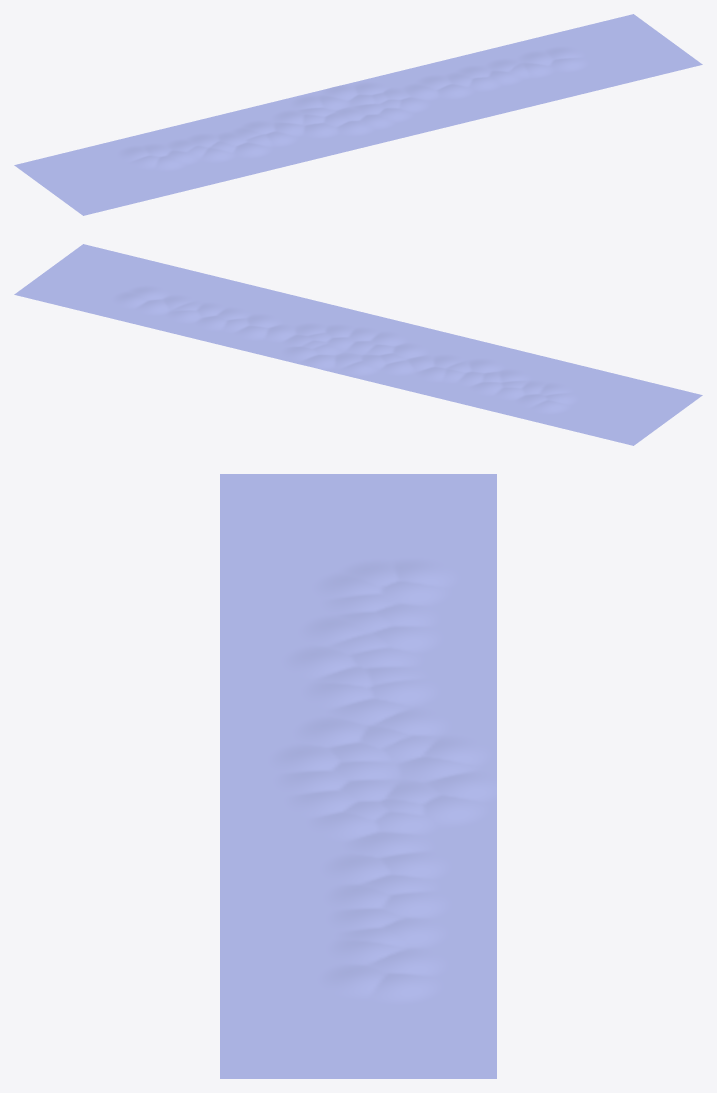
File: Water v1.fbx
The picture shows the model from 3 angles, top to bottom: view 1: azimuth 30°, elevation 25°; view 2: azimuth 150°, elevation 25°; view 3: azimuth 270°, elevation 25°; orthographic projection. The views are drawn at different scales.
Visible parts, largest first — view 1: Water; view 2: Water; view 3: Water.
Boxes of the visible parts, bbox=[...] form: Water: bbox=[14, 14, 702, 215]; Water: bbox=[14, 244, 702, 445]; Water: bbox=[220, 474, 496, 1078].
Size of the model in its own units: 9967 by 16.91 by 1930.
